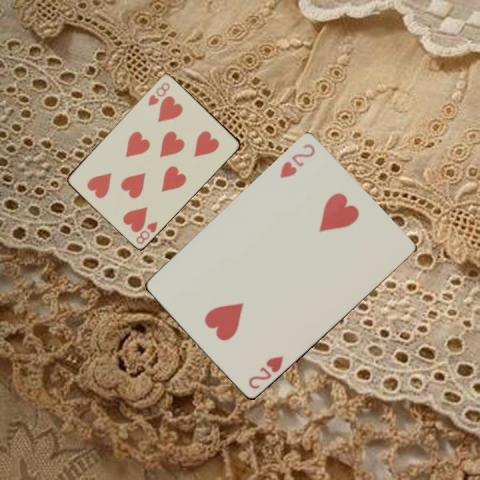2h: (276, 141, 316, 181), (245, 354, 285, 391)
8h: (145, 79, 171, 107), (133, 218, 159, 245)
